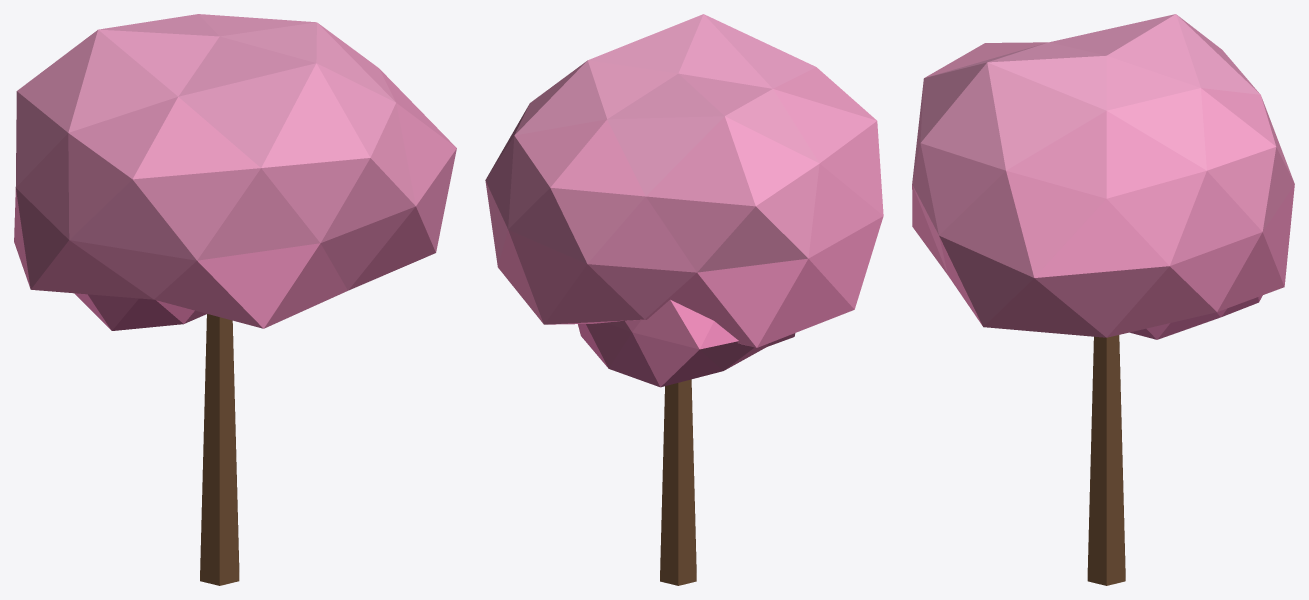
File: tree-b.glb
3 views of the same model, side by side, from view 1: azimuth 30°, elevation 25°; view 2: azimuth 150°, elevation 25°; view 3: azimuth 270°, elevation 25° (orthographic). The views are drawn at different scales.
Parts seen in each view (by area): view 1: tree-b; view 2: tree-b; view 3: tree-b.
Part boxes in pixels (<box>): tree-b: <box>14,14,456,585</box>; tree-b: <box>485,14,883,585</box>; tree-b: <box>912,14,1294,585</box>.
Size of the model in its own units: 5.15 by 6.96 by 4.55.
Materials: 1 (1 with a texture image).
